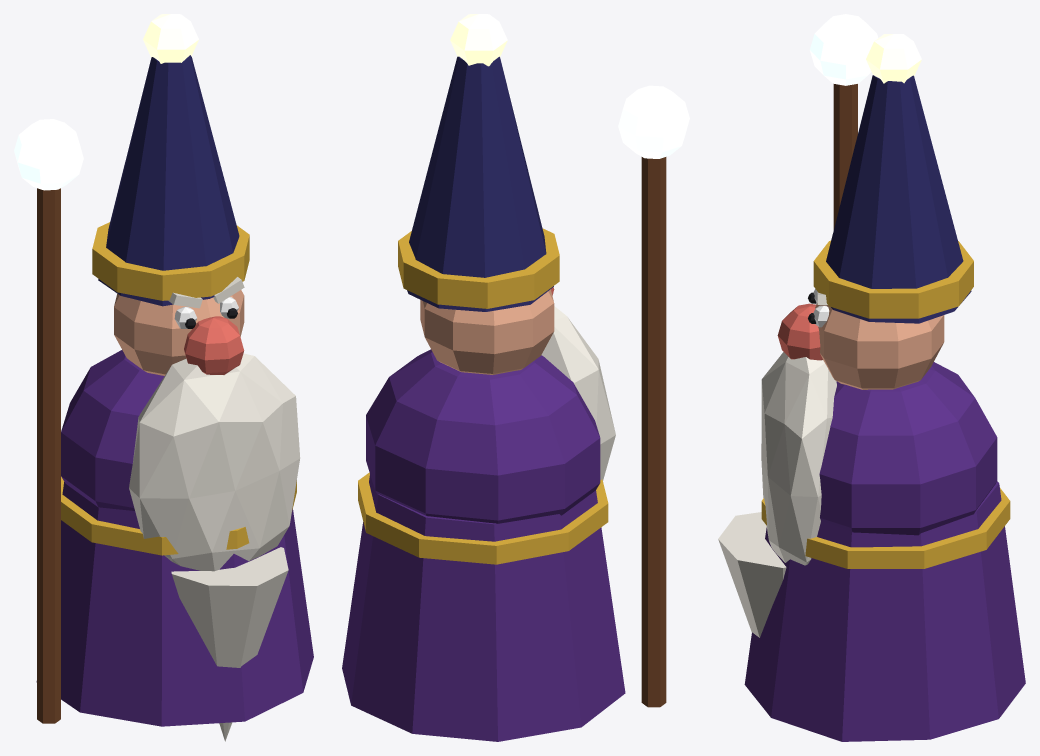
Rendered from highGnome.fbx.
3 renders of one model, left to right at view 1: azimuth 30°, elevation 25°; view 2: azimuth 150°, elevation 25°; view 3: azimuth 270°, elevation 25°, orthographic. The views are drawn at different scales.
Visible parts, largest first — view 1: highGnome; view 2: highGnome; view 3: highGnome.
Boxes of the visible parts, bbox=[...] form: highGnome: bbox=[14, 14, 313, 741]; highGnome: bbox=[342, 14, 689, 741]; highGnome: bbox=[718, 14, 1025, 741].
Size of the model in its own units: 2.03 by 4.53 by 1.84.
